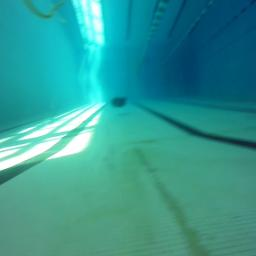Full: (112, 96, 128, 108)
